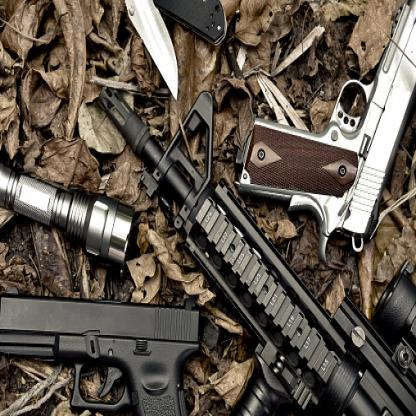Gun: (96, 83, 416, 415), (0, 292, 202, 416)
Knife: (121, 0, 229, 102)
Pistol: (232, 0, 416, 261)
